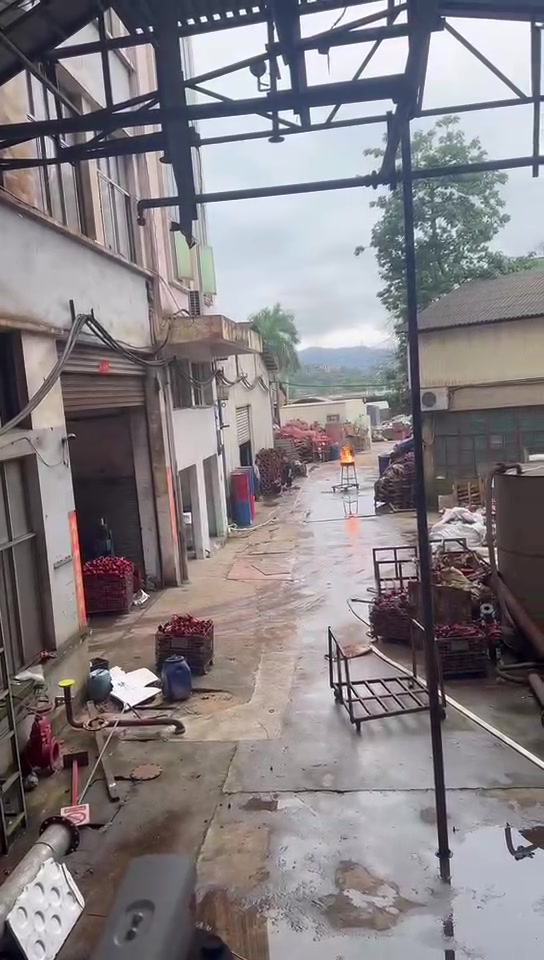fire: (339, 444, 353, 462)
